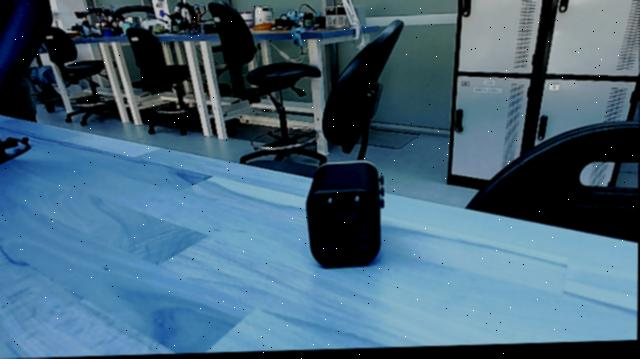adapter: (303, 158, 390, 272)
